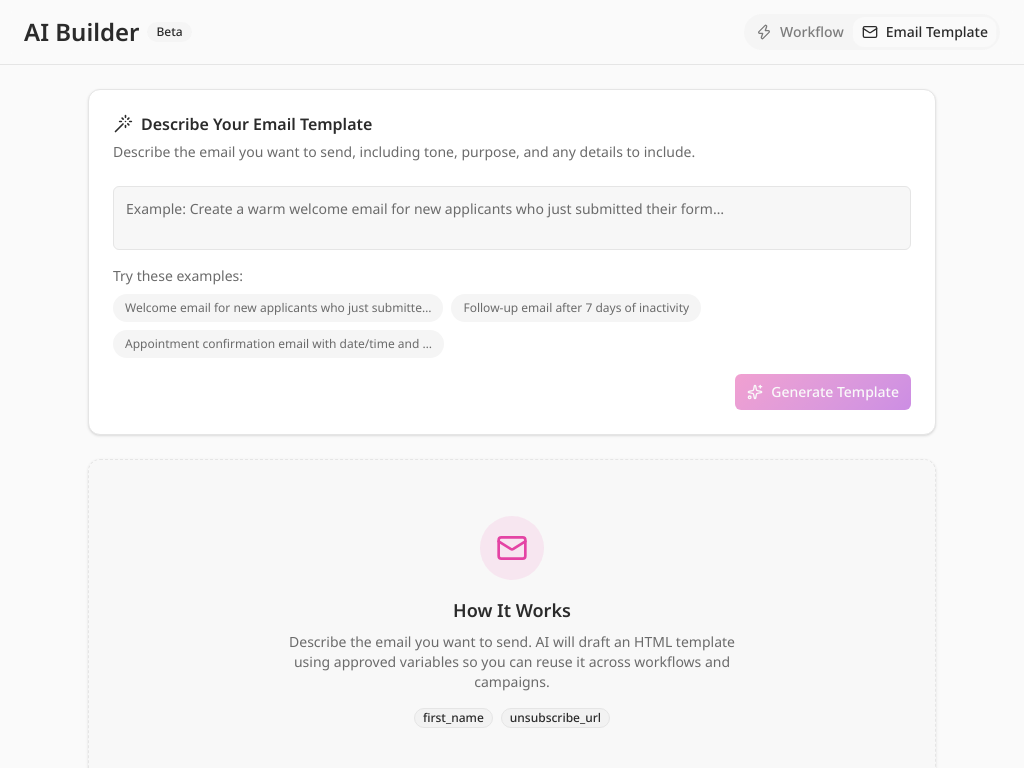
AIBuilderPage › renders variable suggestions for generated email template
Replace the text in the text box with "Welcome email" at (512, 218), box [113,186,911,250]
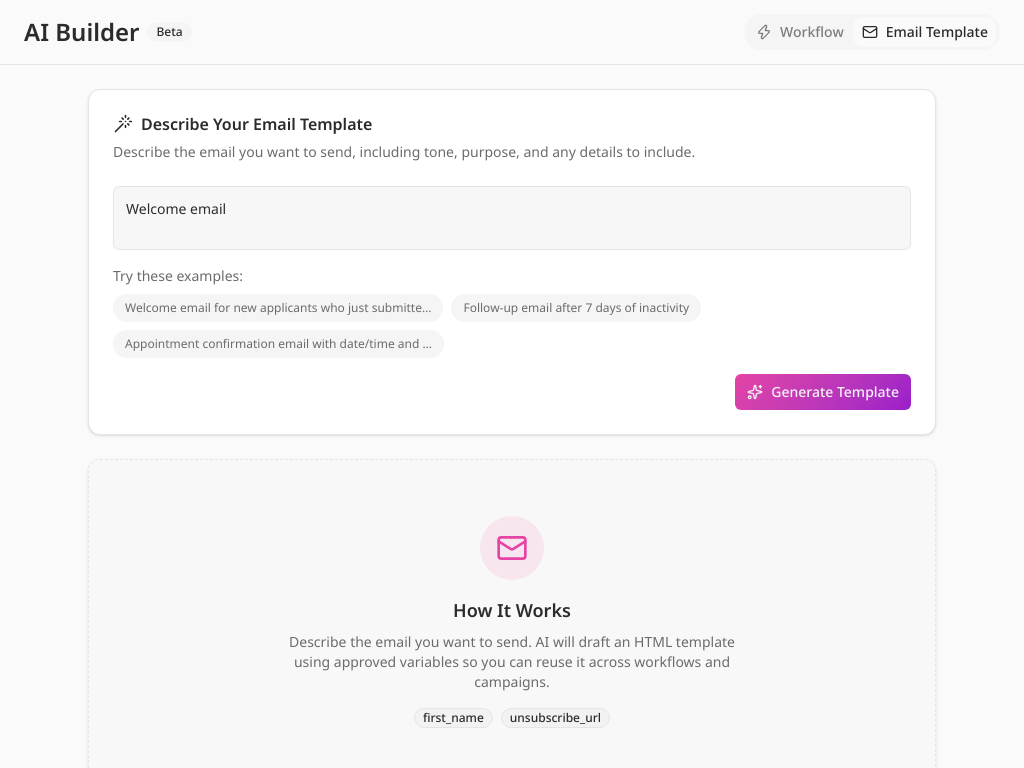
Click the button "Generate Template" at (823, 392), box [735,374,911,410]
(page scrolled)
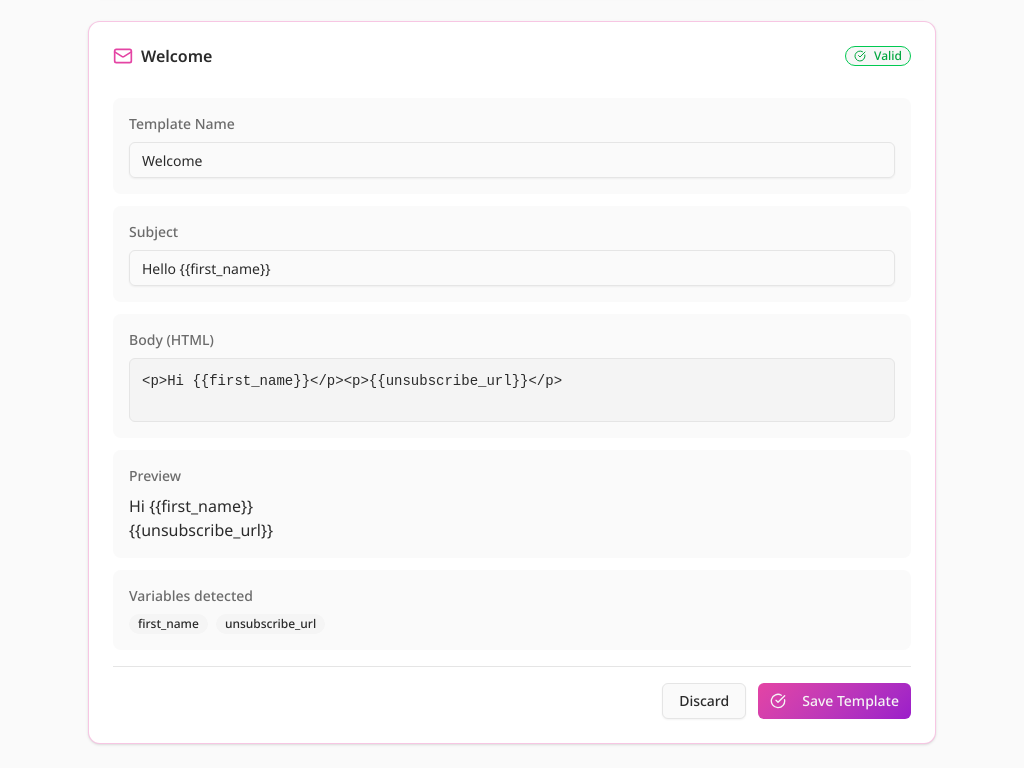
Check: the text "first_name" is shown, box [129,614,208,634]
Check: the text "Variables detected" is shown, box [129,586,253,605]
